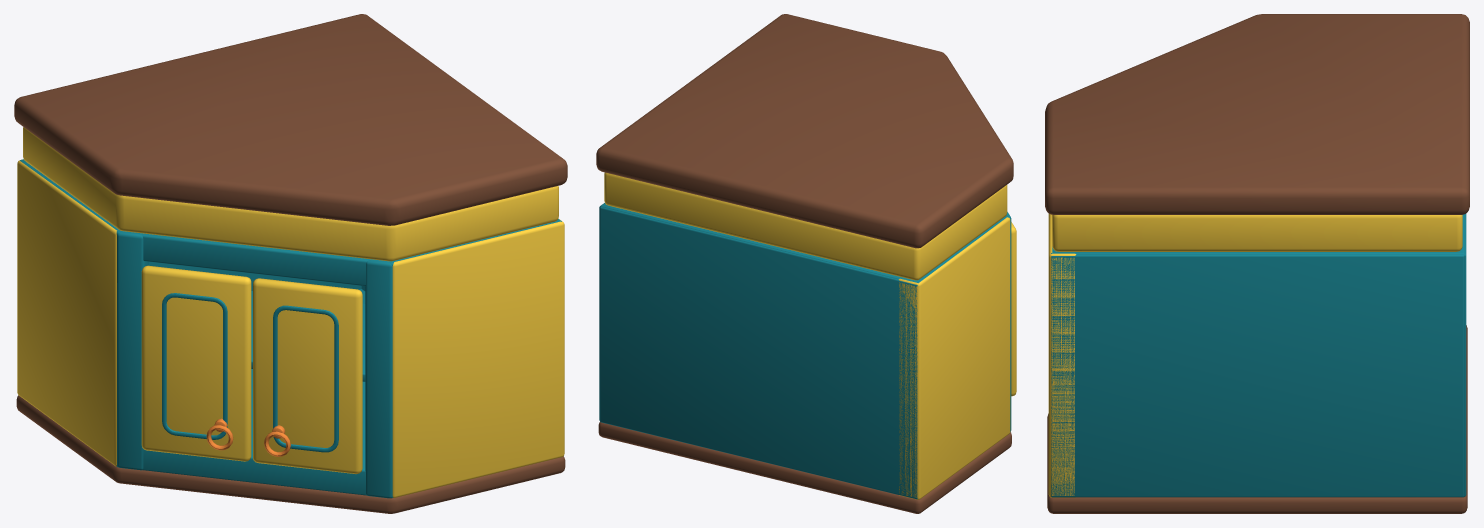
Rendered from armario_parede_canto_chanfrado_colonial.glb.
3 renders of one model, left to right at view 1: azimuth 30°, elevation 25°; view 2: azimuth 150°, elevation 25°; view 3: azimuth 270°, elevation 25°, orthographic. The views are drawn at different scales.
Parts seen in each view (by area): view 1: armario_parede_canto_chanfrado_colonial, porta_1, porta_2; view 2: armario_parede_canto_chanfrado_colonial, porta_1; view 3: armario_parede_canto_chanfrado_colonial.
Part boxes in pixels (left/top/right/bottom): armario_parede_canto_chanfrado_colonial: left=14, top=14, right=567, bottom=513; porta_1: left=141, top=265, right=251, bottom=461; porta_2: left=253, top=278, right=362, bottom=473; armario_parede_canto_chanfrado_colonial: left=596, top=14, right=1013, bottom=513; porta_1: left=1011, top=222, right=1016, bottom=396; armario_parede_canto_chanfrado_colonial: left=1045, top=14, right=1469, bottom=513.
Bounding box in the file's own units: 0.708 × 0.6 × 0.708.
Materials: 1 (1 with a texture image).
